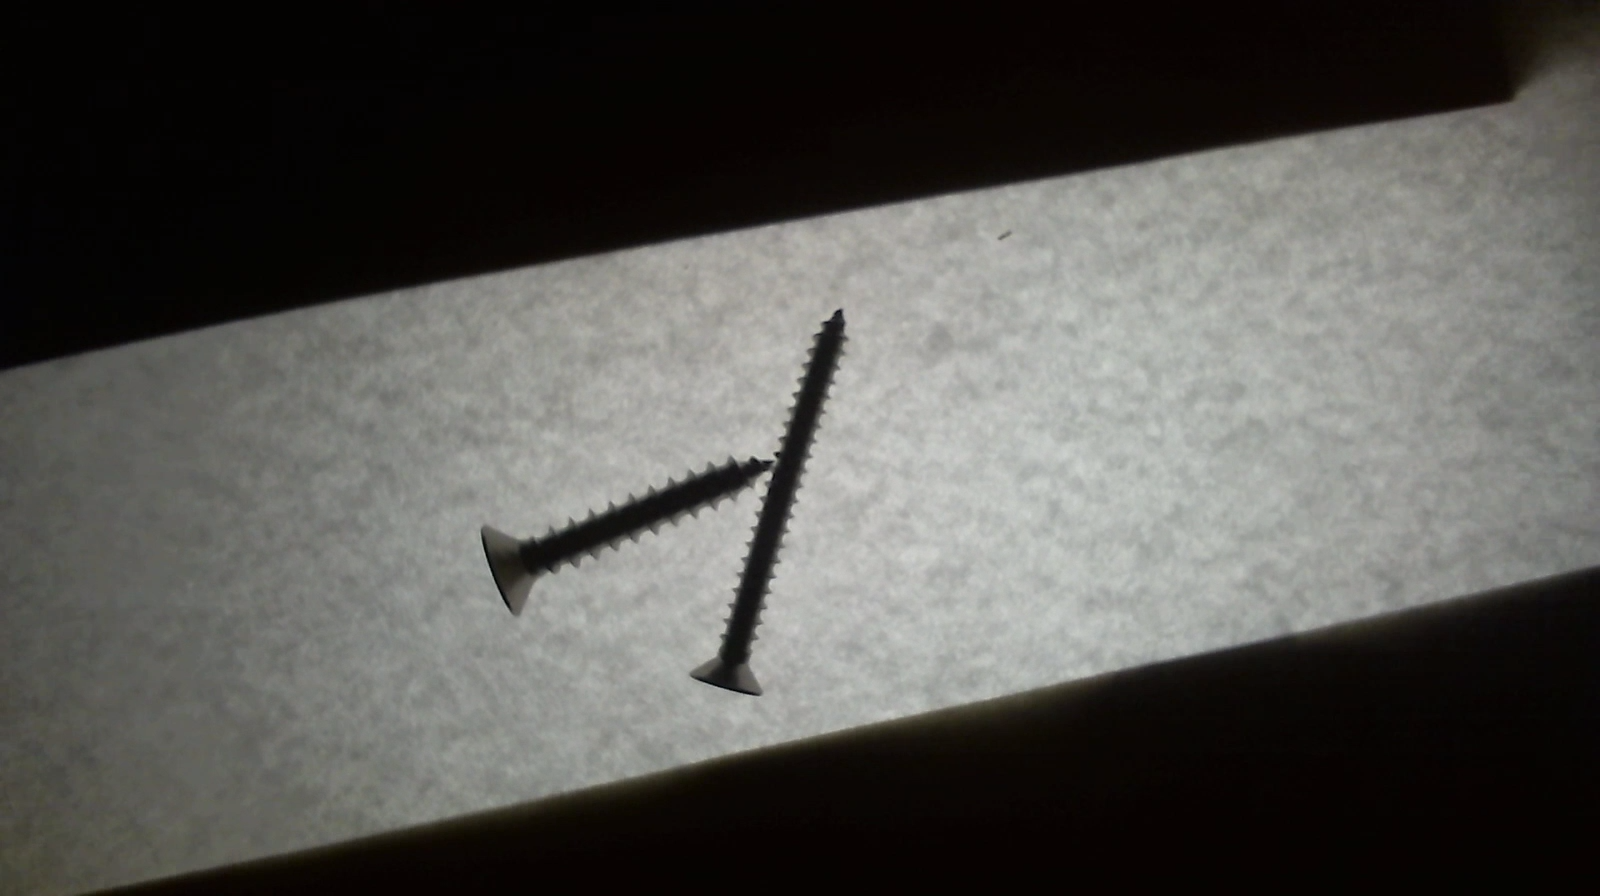S001: (470, 453, 784, 619)
S002: (680, 297, 862, 709)
